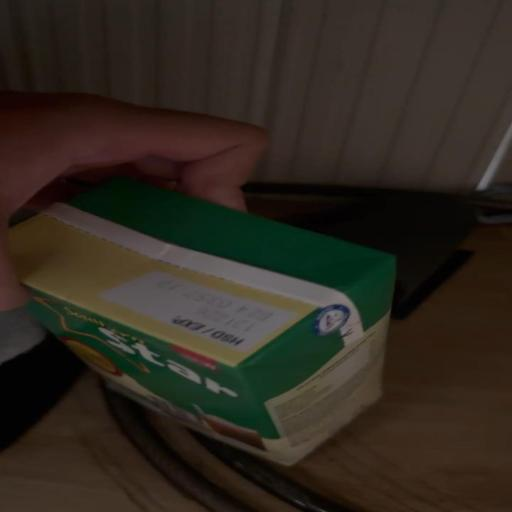ly_giay: (10, 178, 394, 465)
